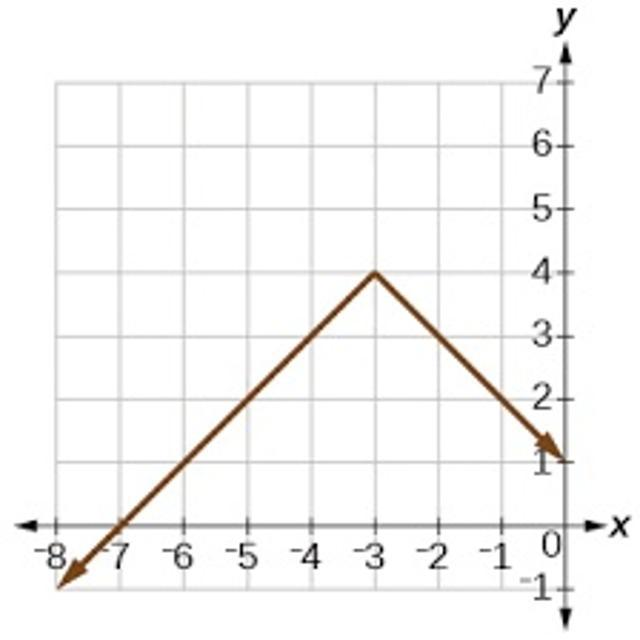axis: (552, 34, 575, 640), (2, 514, 612, 535)
line: (58, 263, 567, 590)
